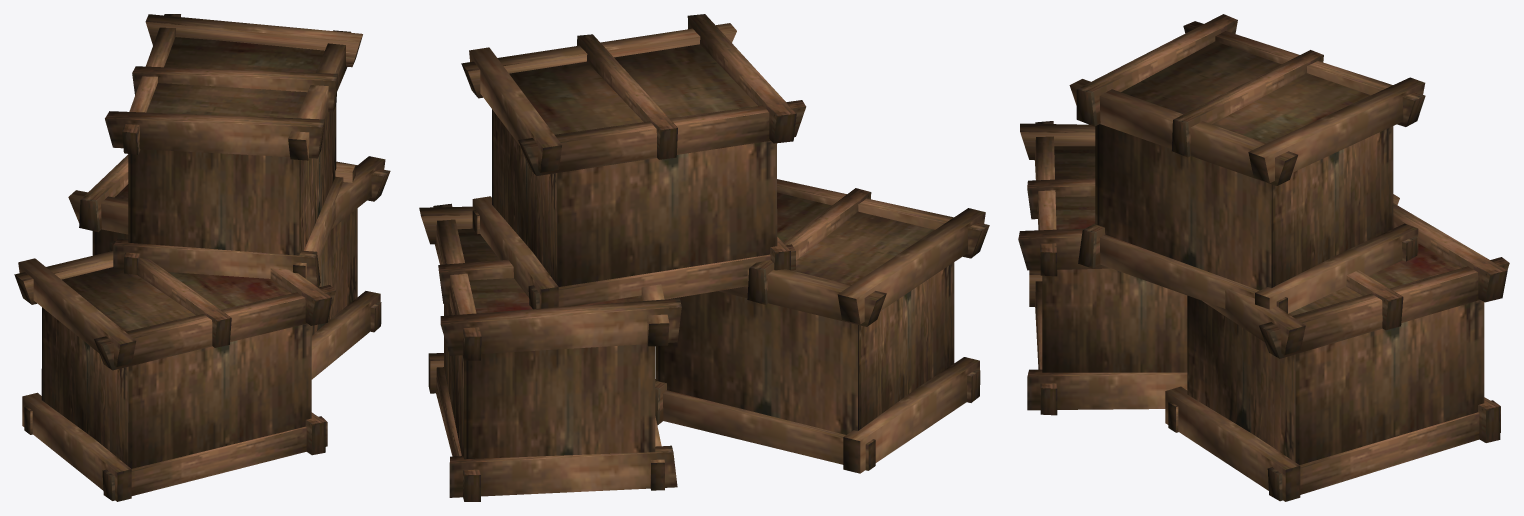
Rendered from S_Build_Forest024.FBX.
The picture shows the model from 3 angles, left to right: view 1: azimuth 30°, elevation 25°; view 2: azimuth 150°, elevation 25°; view 3: azimuth 270°, elevation 25°; orthographic projection. The views are drawn at different scales.
Parts seen in each view (by area): view 1: S_Build_Forest024; view 2: S_Build_Forest024; view 3: S_Build_Forest024.
Boxes of the visible parts, x1,y1,x2,y2 form: S_Build_Forest024: (14, 14, 390, 501); S_Build_Forest024: (419, 14, 989, 501); S_Build_Forest024: (1018, 14, 1509, 501).
Bounding box in the file's own units: 290 × 284 × 212.
